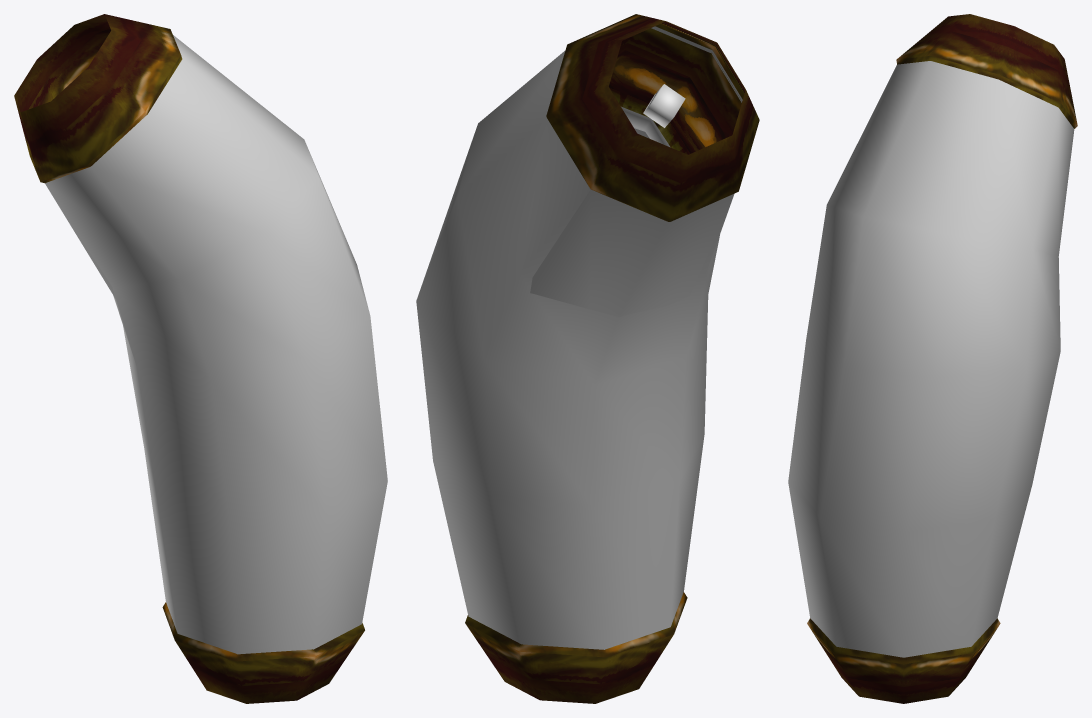
The model's file is Bug_Arm_01_c.fbx.
3 renders of one model, left to right at view 1: azimuth 30°, elevation 25°; view 2: azimuth 150°, elevation 25°; view 3: azimuth 270°, elevation 25°, orthographic. The views are drawn at different scales.
Visible parts, largest first — view 1: Bug_Arm_01_c; view 2: Bug_Arm_01_c, marker_bug.005; view 3: Bug_Arm_01_c.
Boxes of the visible parts, x1=… form: Bug_Arm_01_c: x1=14, y1=14, x2=387, y2=703; Bug_Arm_01_c: x1=416, y1=14, x2=759, y2=703; marker_bug.005: x1=643, y1=84, x2=685, y2=127; Bug_Arm_01_c: x1=788, y1=14, x2=1077, y2=703.
Bounding box in the file's own units: 1.55 × 3.17 × 1.36.
